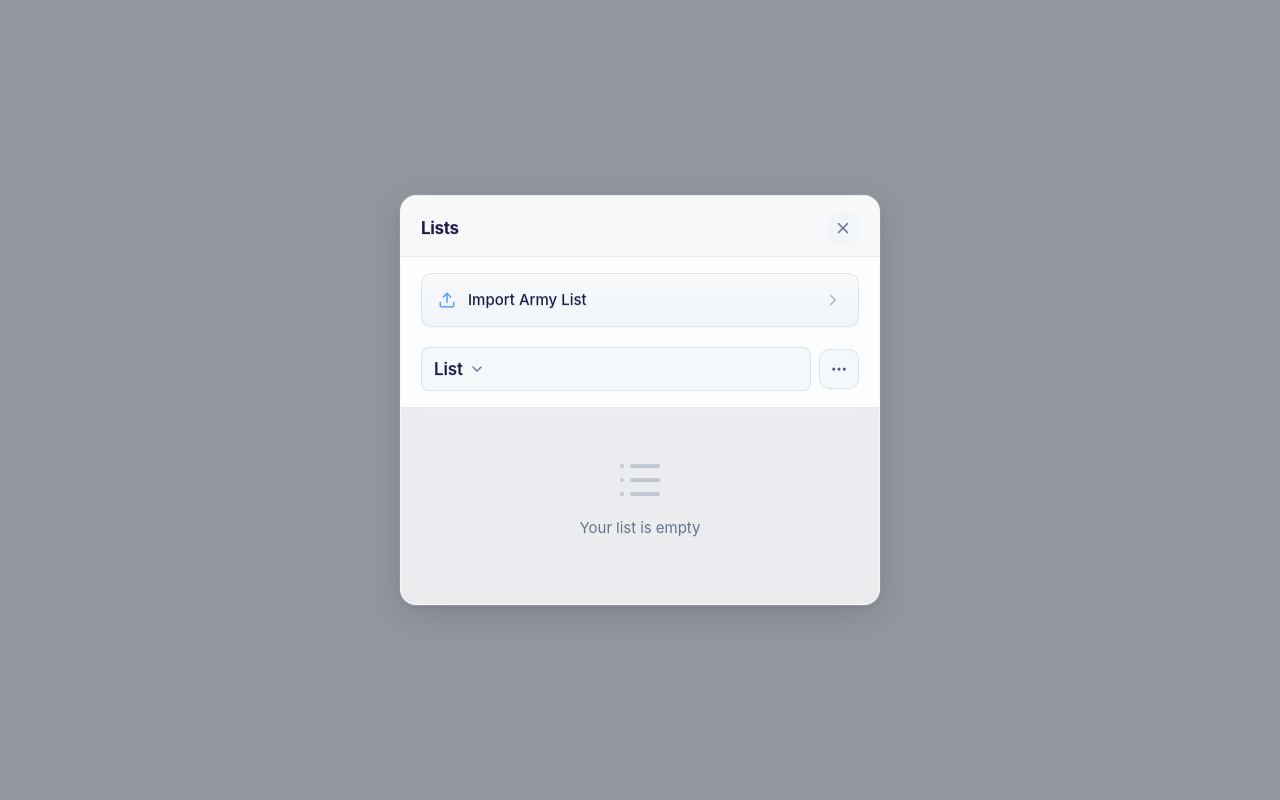
ListOverview sharing › hides Share List when there is no list or cloud category to share
The width and height of the screenshot is (1280, 800).
Click the button with class "list-overview-more-button" at (839, 369), box [819,349,859,389]
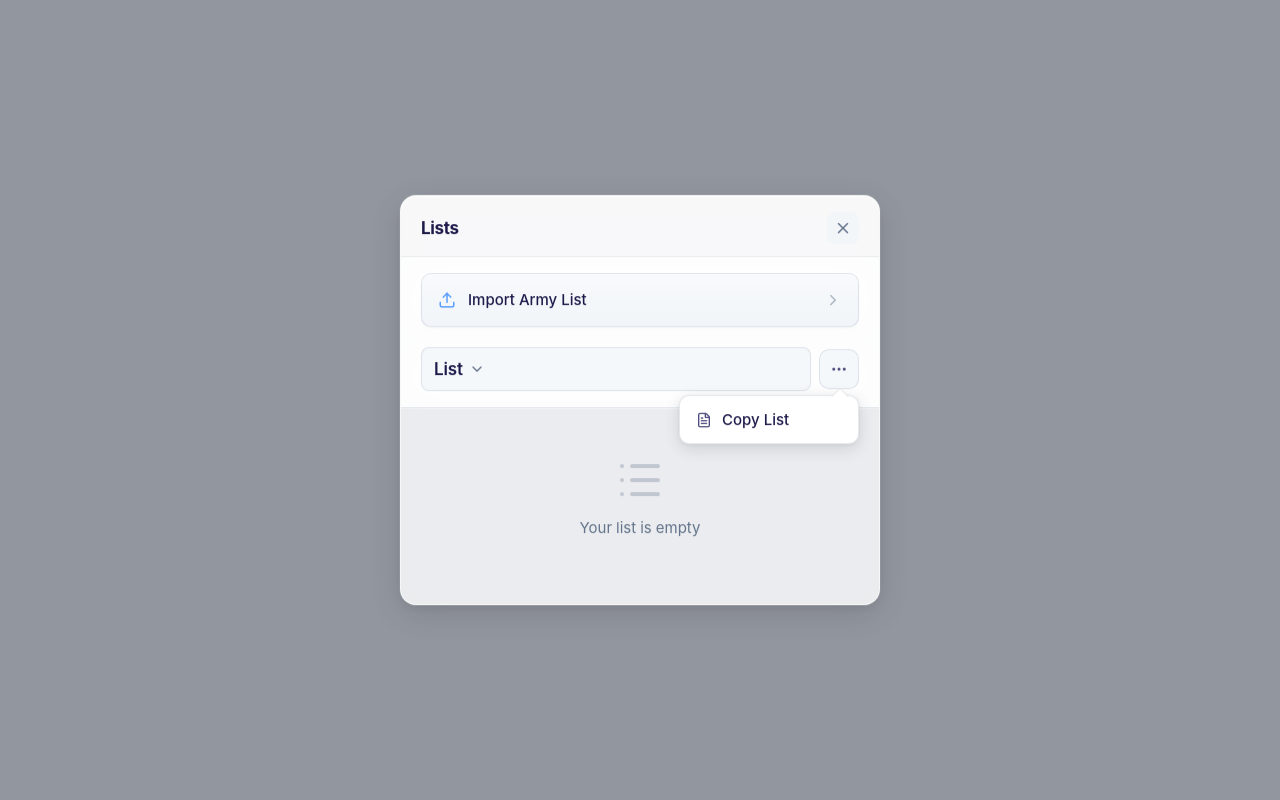
Expected: the text "Copy List" is shown, [722,408,789,432]
